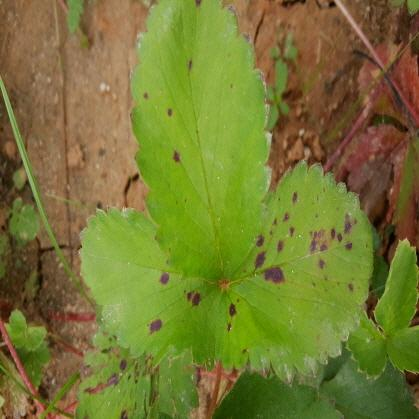Leaf Spot: (129, 0, 274, 284), (214, 159, 373, 386), (77, 205, 221, 372), (74, 326, 200, 418)
